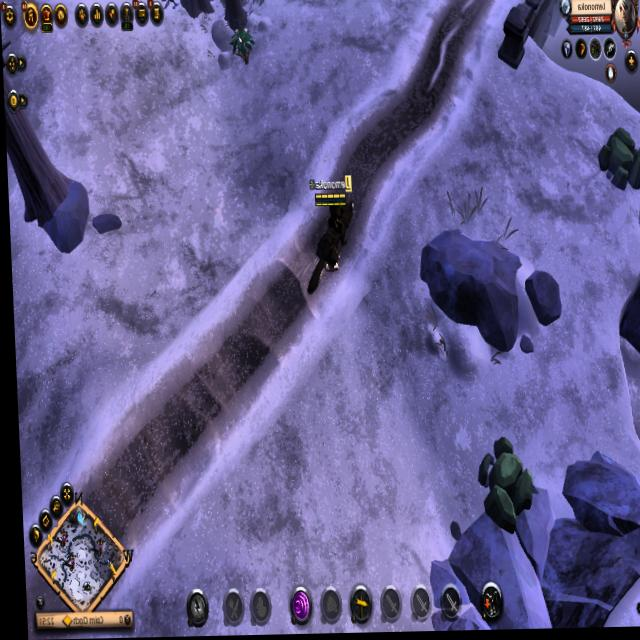fiber tier 3: (230, 26, 256, 71)
rock tier 3: (470, 436, 531, 539), (593, 126, 640, 197)
